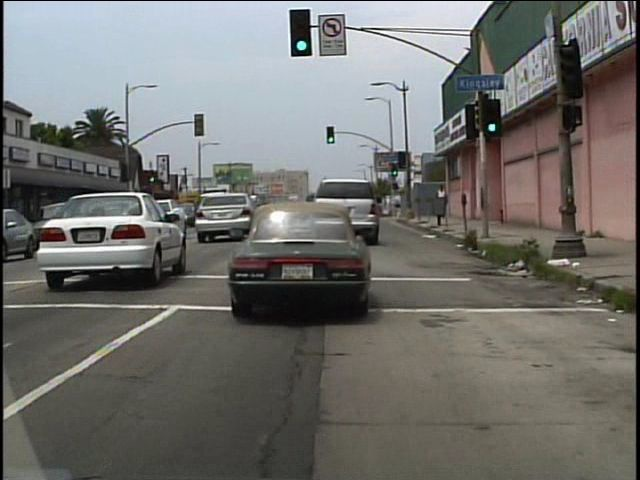person: (435, 184, 449, 218)
